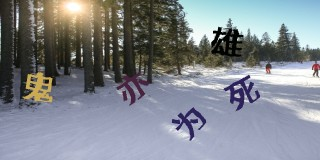为: (170, 107, 207, 142)
亦: (116, 73, 150, 106)
死: (224, 74, 260, 111)
雄: (209, 26, 244, 57)
鬼: (22, 71, 54, 103)
